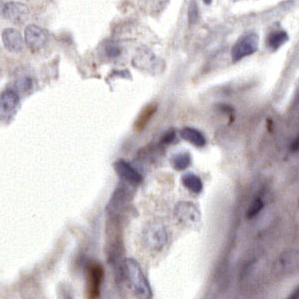Lymphocyte: (135, 104, 157, 126)
